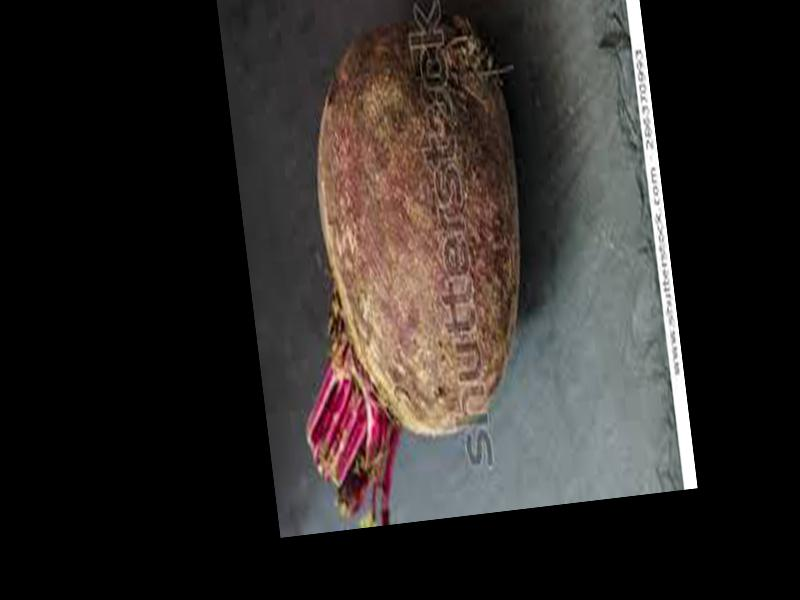Beet: (261, 7, 555, 529)
